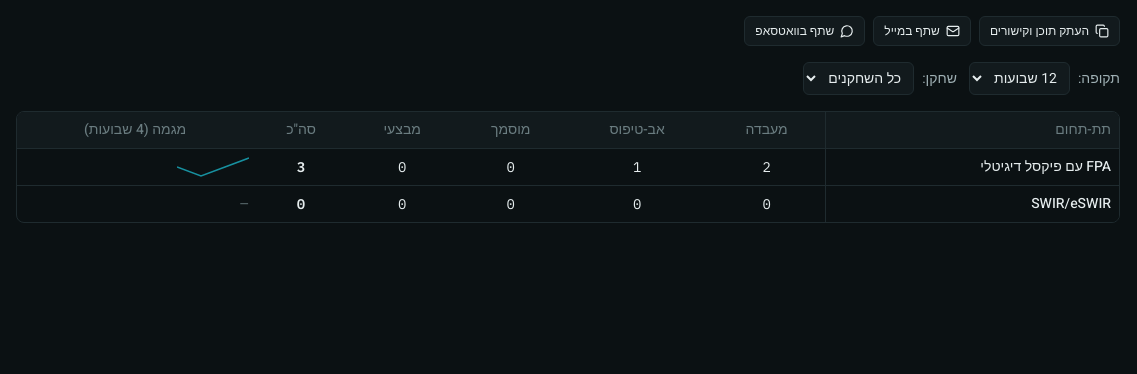
Scenario: TechRadarPage › clicking a radar cell fetches and shows the filtered item list
The width and height of the screenshot is (1137, 374).
Click the button with test id "radar-cell-droic_digital_pixel-lab".
click(767, 167)  # box [747,153,787,181]
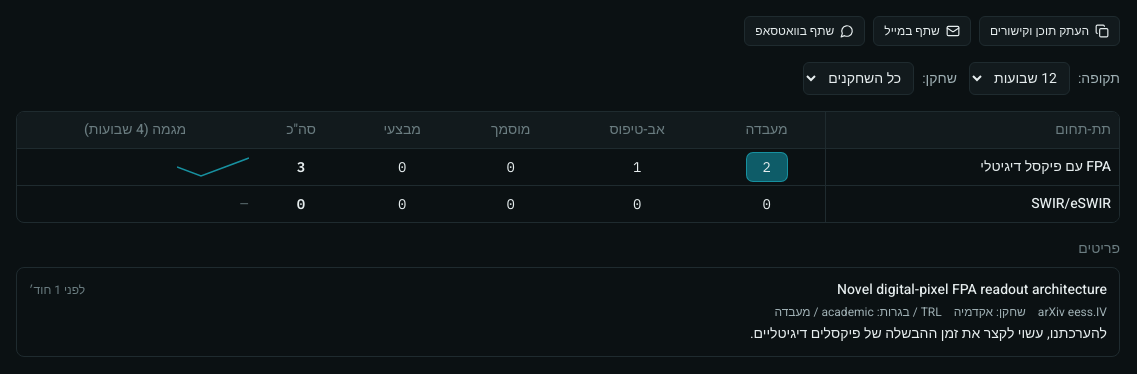
Expected: the list item with test id "tech-item-11" is shown, [17,268,1119,356]
Expected: the text "להערכתנו, עשוי לקצר את זמן ההבשלה של פיקסלים דיגיטליים." is shown, [750,323,1107,344]
